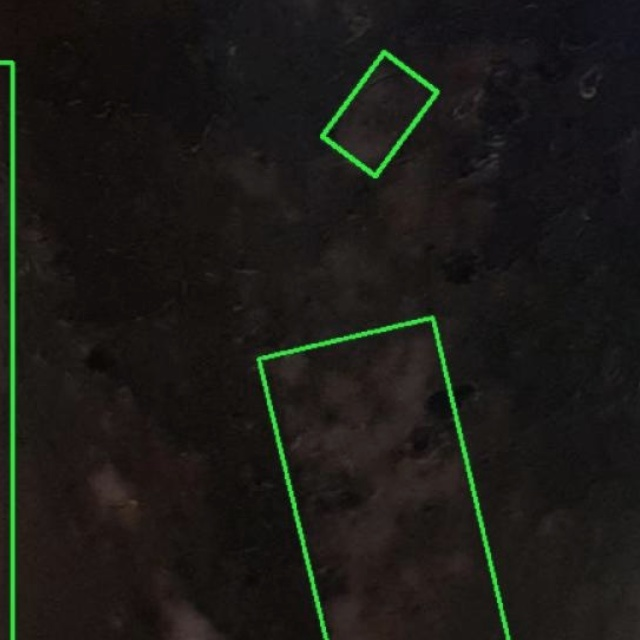Contact Dermatitis: (258, 318, 507, 639), (321, 52, 437, 176)
